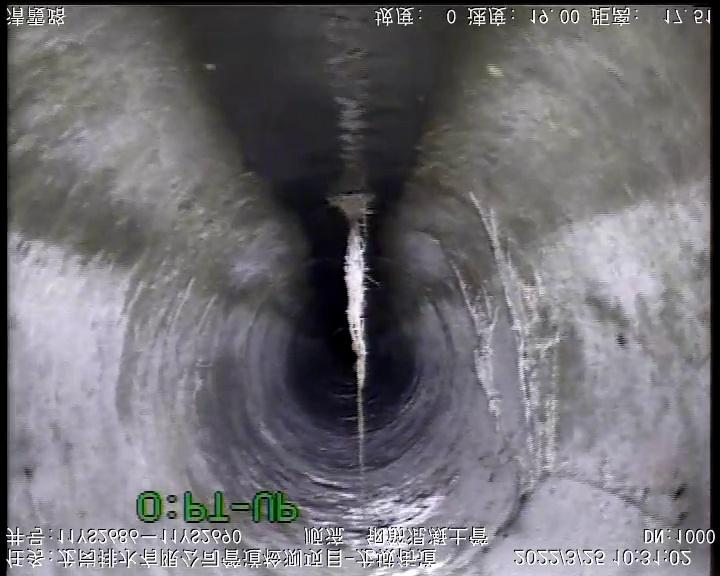SG: (329, 192, 373, 473)
